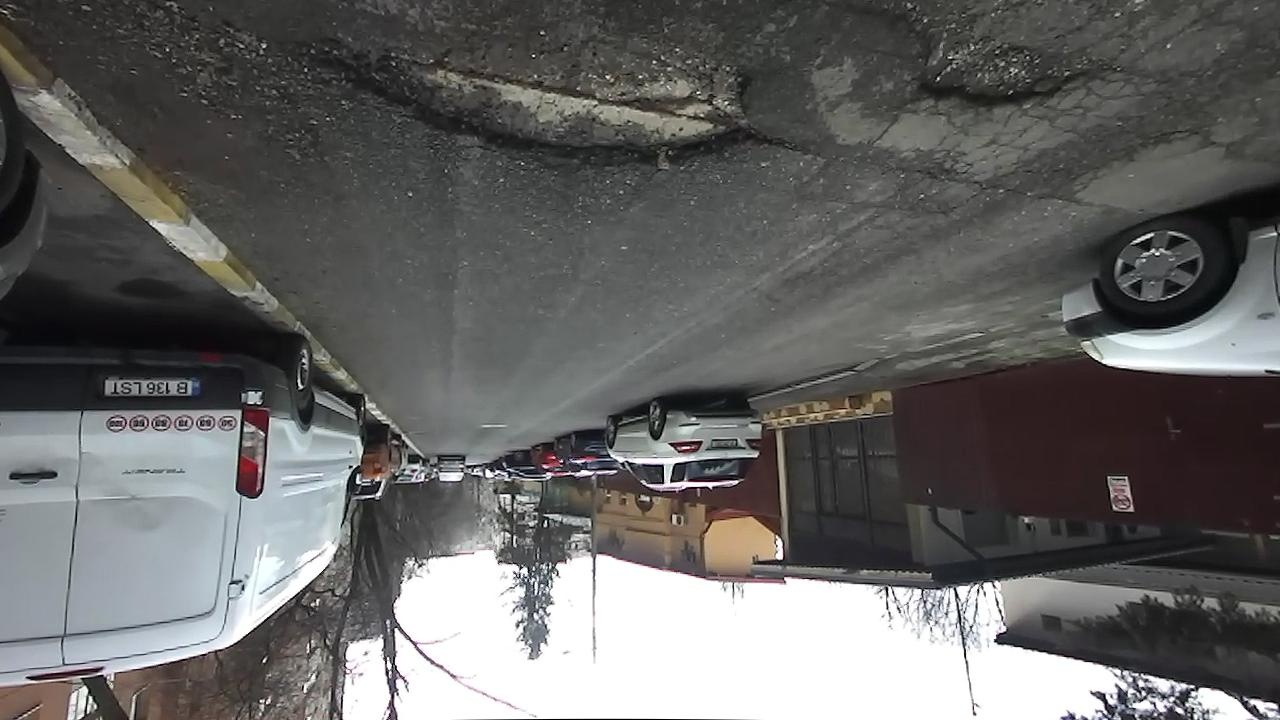pothole: (268, 9, 793, 175), (890, 7, 1107, 111)
